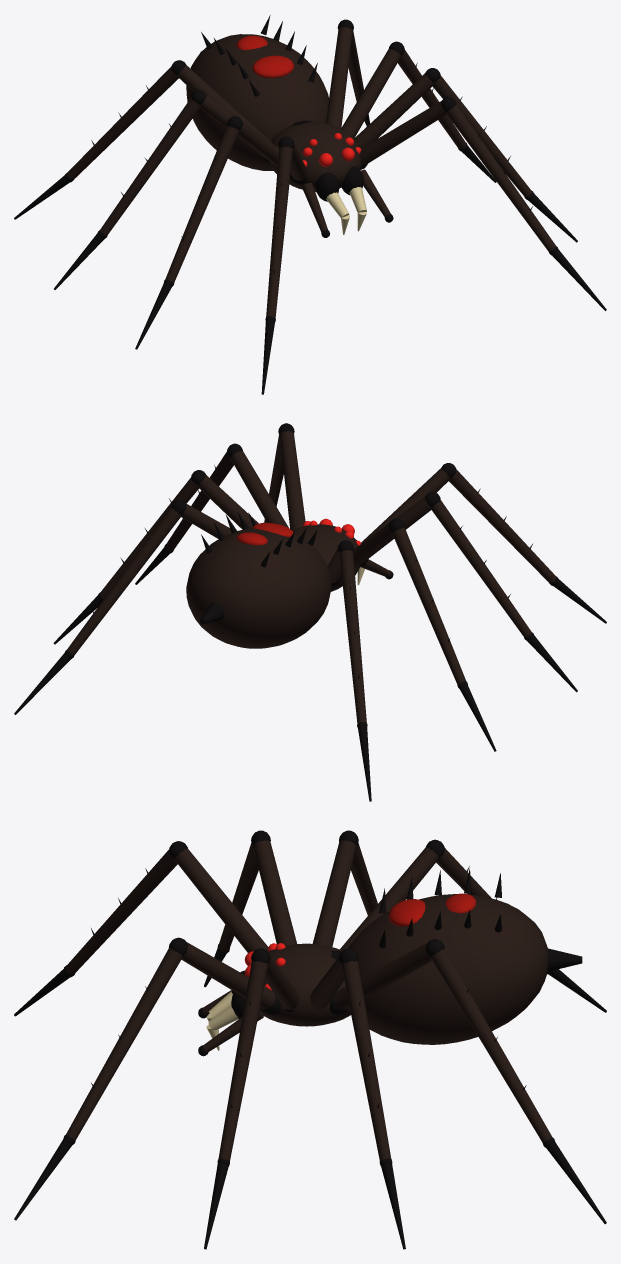
The model's file is giant_spider.obj.
3 renders of one model, top to bottom at view 1: azimuth 30°, elevation 25°; view 2: azimuth 150°, elevation 25°; view 3: azimuth 270°, elevation 25°, orthographic. The views are drawn at different scales.
Visible parts, largest first — view 1: body, leg_p0, leg_p1, leg_n1, leg_n3, leg_n0, leg_n2, leg_p2, leg_p3; view 2: body, leg_p3, leg_n2, leg_n0, leg_n3, leg_n1, leg_p1, leg_p2, leg_p0; view 3: body, leg_p3, leg_p0, leg_n0, leg_p1, leg_p2, leg_n1, leg_n3, leg_n2.
Boxes of the visible parts, left/top/right/bottom form: body: left=186, top=15, right=393, bottom=237; leg_p0: left=359, top=97, right=606, bottom=310; leg_p1: left=354, top=68, right=577, bottom=242; leg_n1: left=135, top=116, right=278, bottom=349; leg_n3: left=14, top=60, right=271, bottom=219; leg_n0: left=261, top=136, right=307, bottom=394; leg_n2: left=54, top=90, right=272, bottom=289; leg_p2: left=341, top=41, right=496, bottom=182; leg_p3: left=326, top=19, right=369, bottom=128; body: left=186, top=511, right=393, bottom=648; leg_p3: left=14, top=499, right=231, bottom=714; leg_n2: left=353, top=518, right=496, bottom=751; leg_n0: left=360, top=463, right=606, bottom=623; leg_n3: left=327, top=540, right=371, bottom=801; leg_n1: left=358, top=492, right=577, bottom=692; leg_p1: left=135, top=443, right=288, bottom=584; leg_p2: left=53, top=470, right=258, bottom=644; leg_p0: left=264, top=423, right=305, bottom=530; body: left=198, top=868, right=582, bottom=1056; leg_p3: left=329, top=939, right=606, bottom=1223; leg_p0: left=14, top=937, right=280, bottom=1220; leg_n0: left=14, top=841, right=268, bottom=1016; leg_p1: left=204, top=948, right=299, bottom=1249; leg_p2: left=310, top=948, right=405, bottom=1249; leg_n1: left=204, top=830, right=296, bottom=987; leg_n3: left=340, top=839, right=606, bottom=1012; leg_n2: left=312, top=830, right=377, bottom=946.
Bounding box in the file's own units: 3.63 × 1.48 × 3.45.
